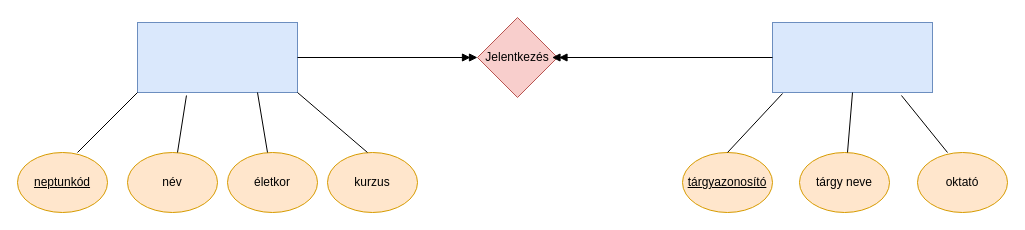
The diagram is 1025 pixels wide and 230 high, and some of its shapes have lost their labels. The centre of each missing label's shape, as x and y in pixels:
"Hallgató" goes at (217,57).
"tárgy" goes at (852,57).
